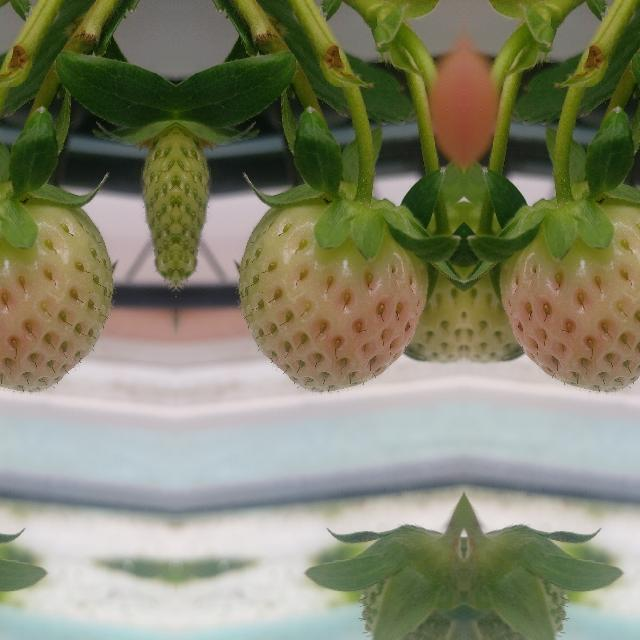Health_50: (237, 198, 427, 392), (499, 198, 640, 391), (0, 198, 113, 391)
